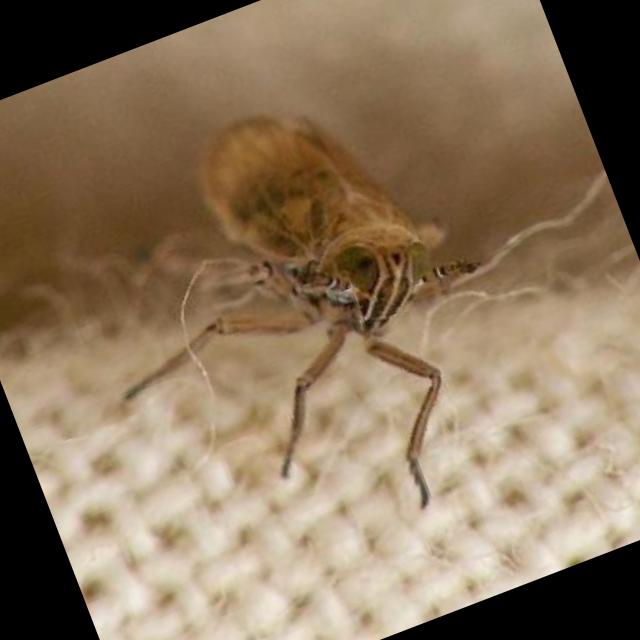brown-planthopper: (178, 66, 471, 375)
